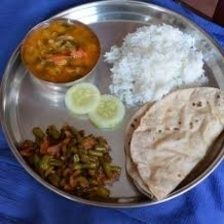roti: (122, 88, 224, 199)
